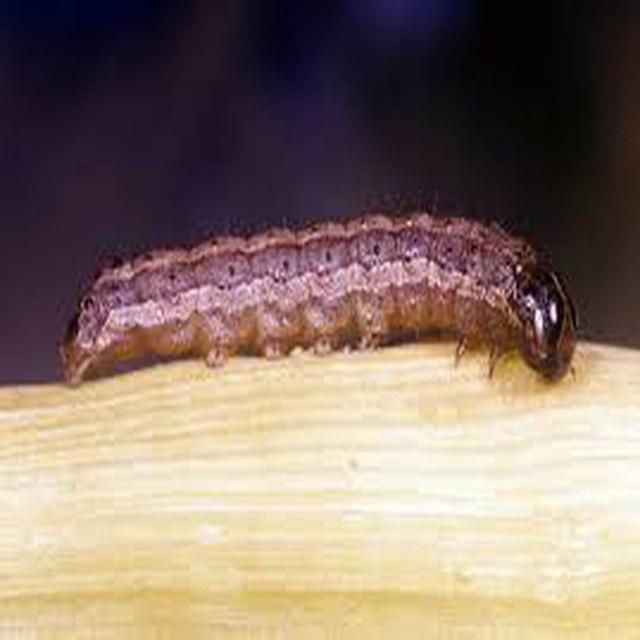gusano_cogollero: (58, 202, 582, 396)
